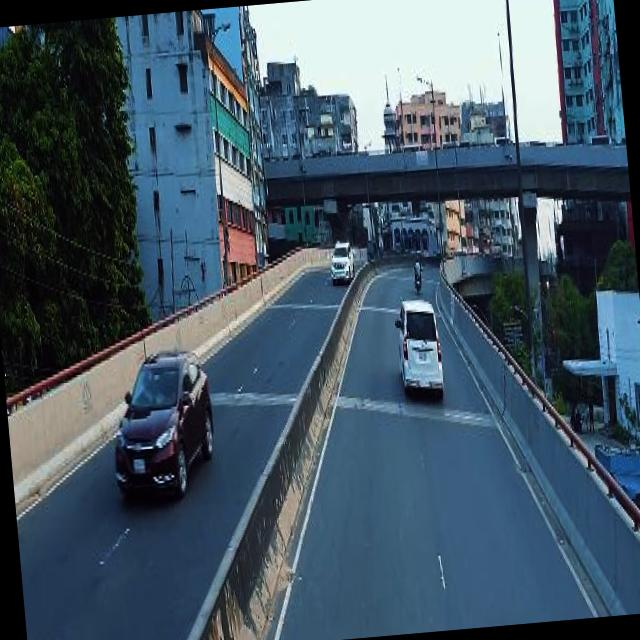car: (104, 343, 223, 512), (328, 234, 358, 286)
motorcycle: (412, 252, 426, 290)
truck: (392, 293, 448, 398)
